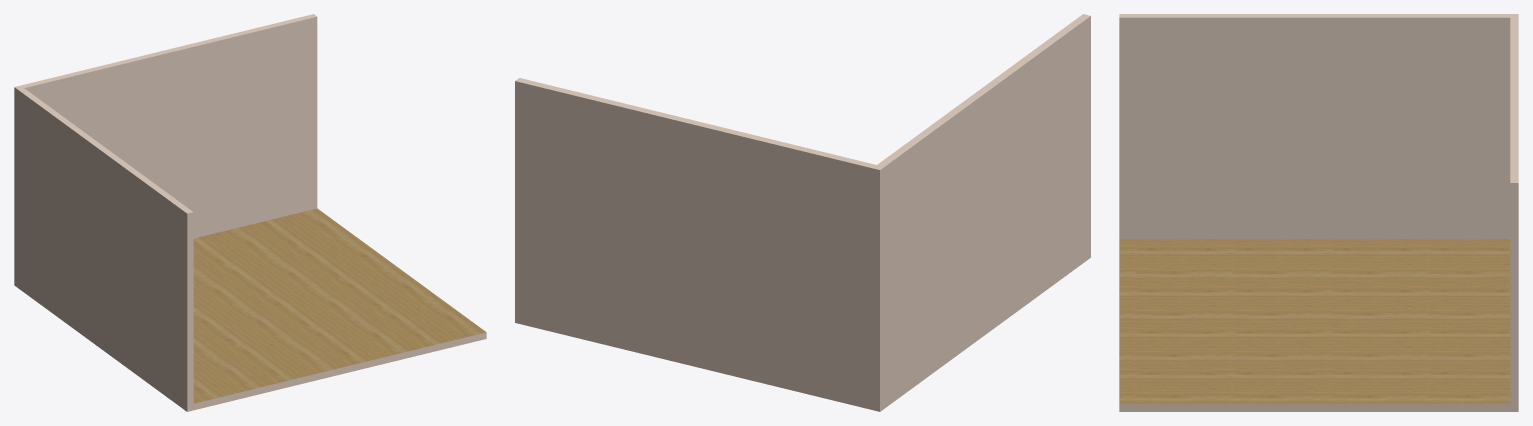
File: LivingRoom2.glb
The picture shows the model from 3 angles, left to right: view 1: azimuth 30°, elevation 25°; view 2: azimuth 150°, elevation 25°; view 3: azimuth 270°, elevation 25°; orthographic projection. The views are drawn at different scales.
Visible parts, largest first — view 1: Room; view 2: Room; view 3: Room.
Part boxes in pixels (left/top/right/bottom): Room: left=14, top=14, right=486, bottom=411; Room: left=515, top=14, right=1090, bottom=411; Room: left=1119, top=14, right=1518, bottom=411.
Size of the model in its own units: 8.17 by 5.17 by 8.17.
Materials: 2 (1 with a texture image).
